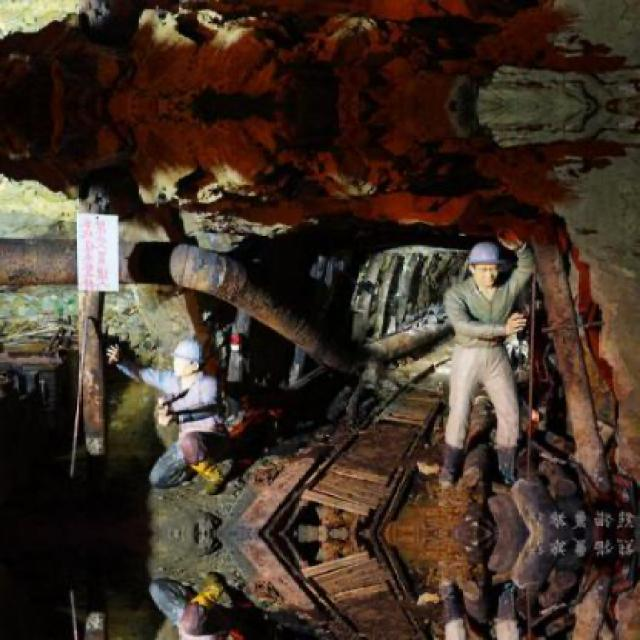helmet: (466, 236, 511, 288), (172, 336, 206, 381)
